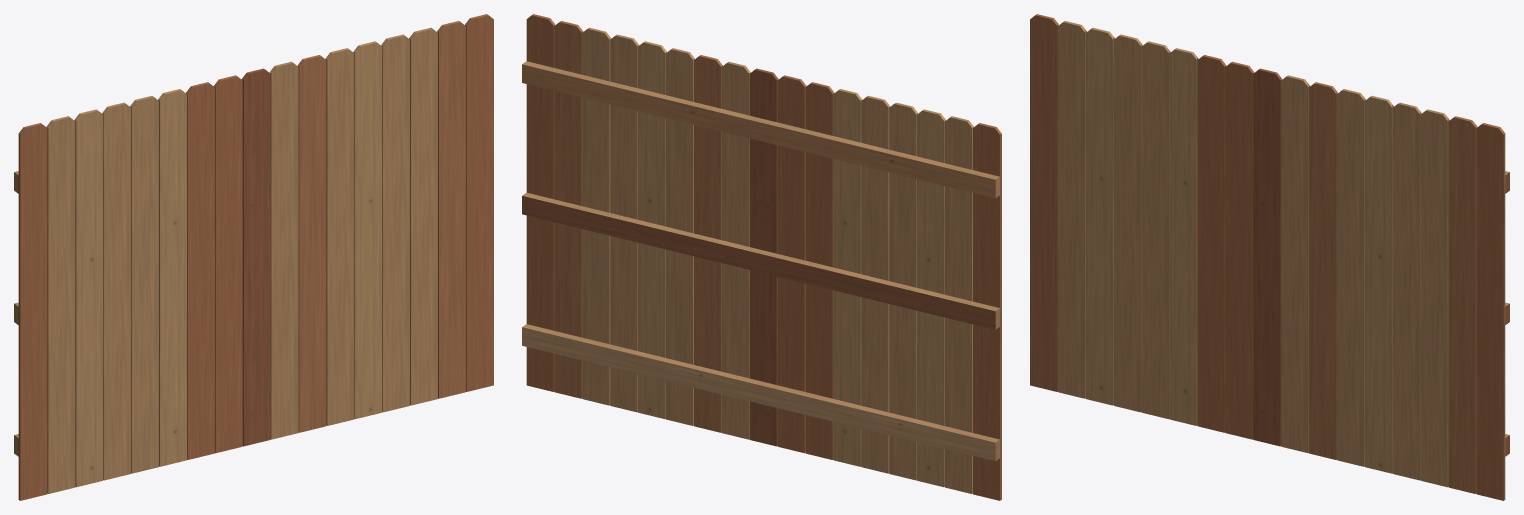
Rendered from fence_privacy_panel.gltf.
3 views of the same model, side by side, from view 1: azimuth 30°, elevation 25°; view 2: azimuth 150°, elevation 25°; view 3: azimuth 330°, elevation 25° (orthographic).
Parts seen in each view (by area): view 1: fence_privacy_panel; view 2: fence_privacy_panel; view 3: fence_privacy_panel.
Boxes of the visible parts, x1,y1,x2,y2 form: fence_privacy_panel: (14,14,493,500); fence_privacy_panel: (522,14,1001,500); fence_privacy_panel: (1030,14,1509,500).
Bounding box in the file's own units: 2.38 × 1.78 × 0.054.
1 material, 1 textured.
